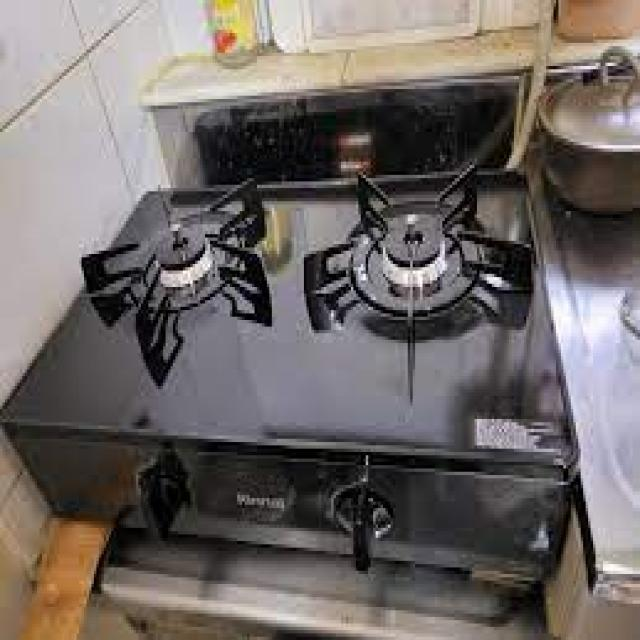knob_ON: (96, 184, 571, 373)
